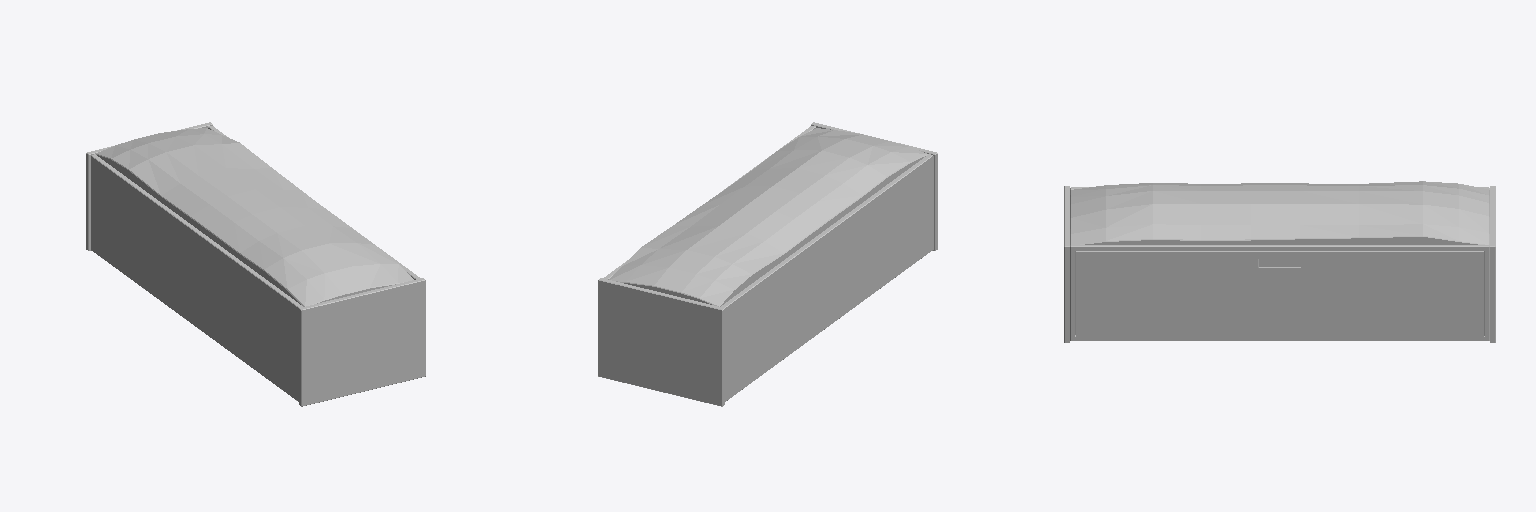
File: hallwayCupboard2.obj
3 views of the same model, side by side, from view 1: azimuth 30°, elevation 25°; view 2: azimuth 150°, elevation 25°; view 3: azimuth 270°, elevation 25° (orthographic).
Parts seen in each view (by area): view 1: pCube30; view 2: pCube30; view 3: pCube30.
Part boxes in pixels (x1,y1,x2,y2): pCube30: (86, 122, 425, 406); pCube30: (598, 122, 937, 406); pCube30: (1064, 181, 1495, 342).
Size of the model in its own units: 0.62 by 0.5413 by 1.85.